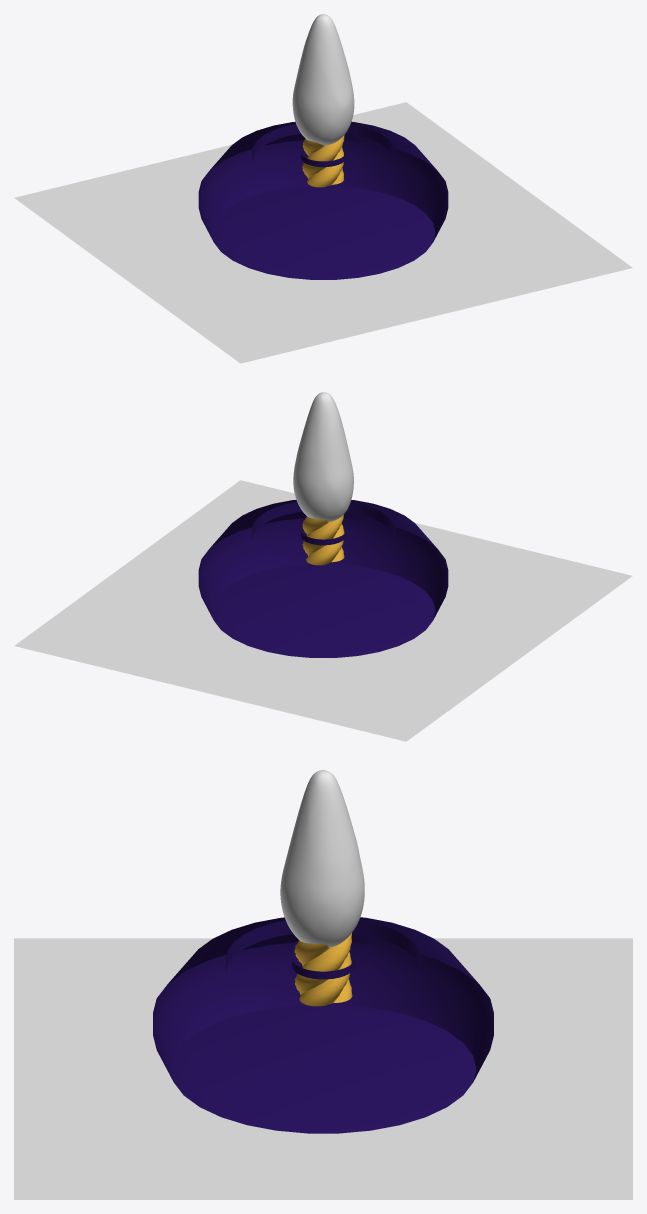
Rendered from spiritus.fbx.
The picture shows the model from 3 angles, top to bottom: view 1: azimuth 30°, elevation 25°; view 2: azimuth 150°, elevation 25°; view 3: azimuth 270°, elevation 25°; orthographic projection. The views are drawn at different scales.
Parts seen in each view (by area): view 1: Plane, Circle, Flame, Circle.001; view 2: Plane, Circle, Flame, Circle.001; view 3: Plane, Circle, Flame, Circle.001.
Boxes of the visible parts, x1=… form: Plane: x1=14, y1=102, x2=632, y2=363; Circle: x1=198, y1=121, x2=448, y2=279; Flame: x1=292, y1=14, x2=354, y2=145; Circle.001: x1=302, y1=135, x2=344, y2=187; Plane: x1=14, y1=480, x2=632, y2=741; Circle: x1=198, y1=500, x2=448, y2=657; Flame: x1=293, y1=392, x2=353, y2=521; Circle.001: x1=302, y1=514, x2=344, y2=565; Plane: x1=14, y1=938, x2=632, y2=1199; Circle: x1=153, y1=917, x2=493, y2=1133; Flame: x1=280, y1=770, x2=364, y2=947; Circle.001: x1=294, y1=933, x2=352, y2=1006.
Size of the model in its own units: 405 by 215 by 405.
